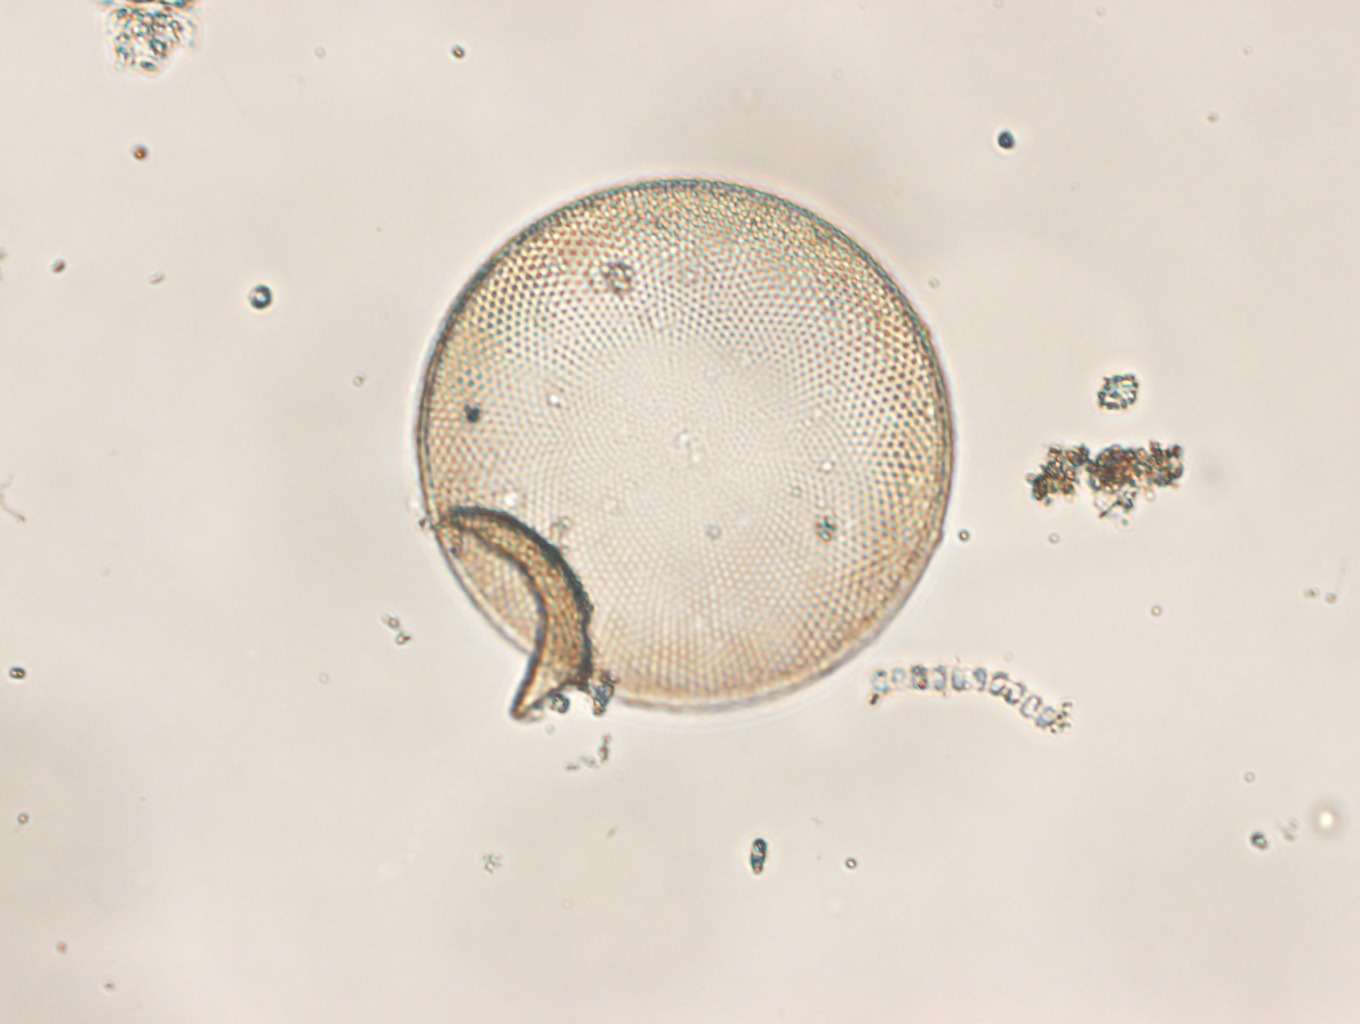coscinodiscus: (414, 176, 957, 709)
skeletonema: (875, 663, 1061, 735)
